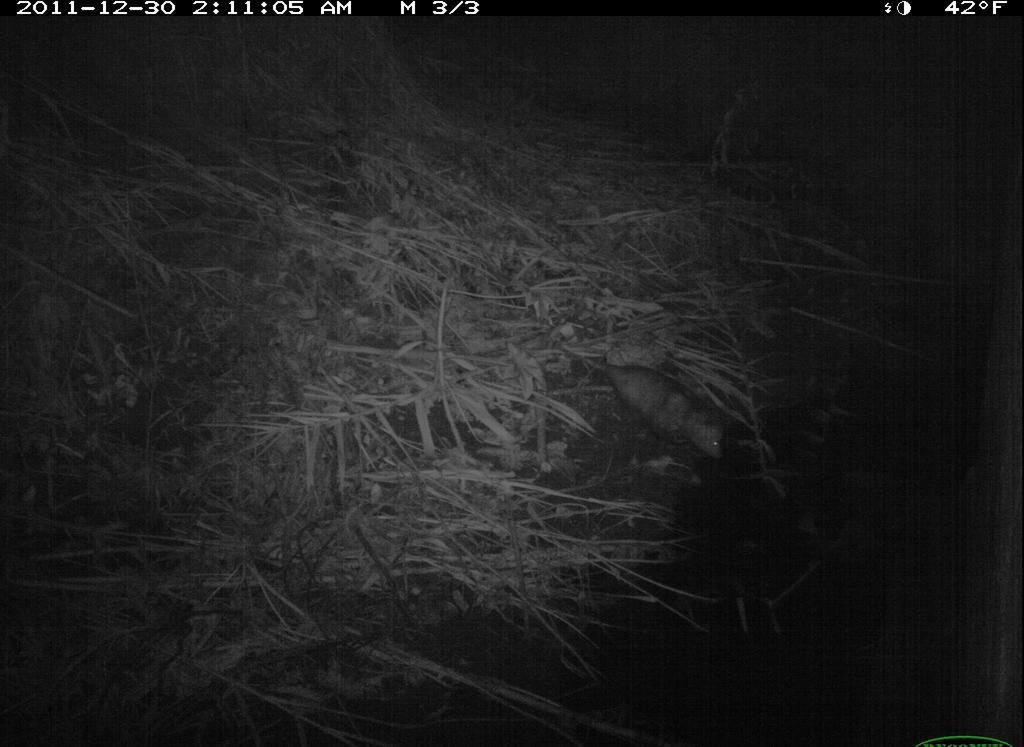opossum: (541, 332, 735, 468)
